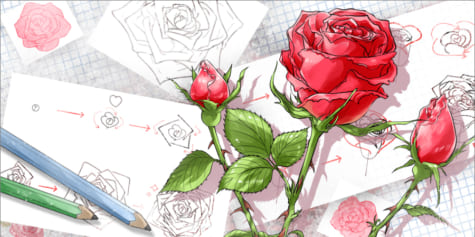rose: (278, 5, 396, 128), (409, 95, 460, 167), (184, 55, 234, 108)
